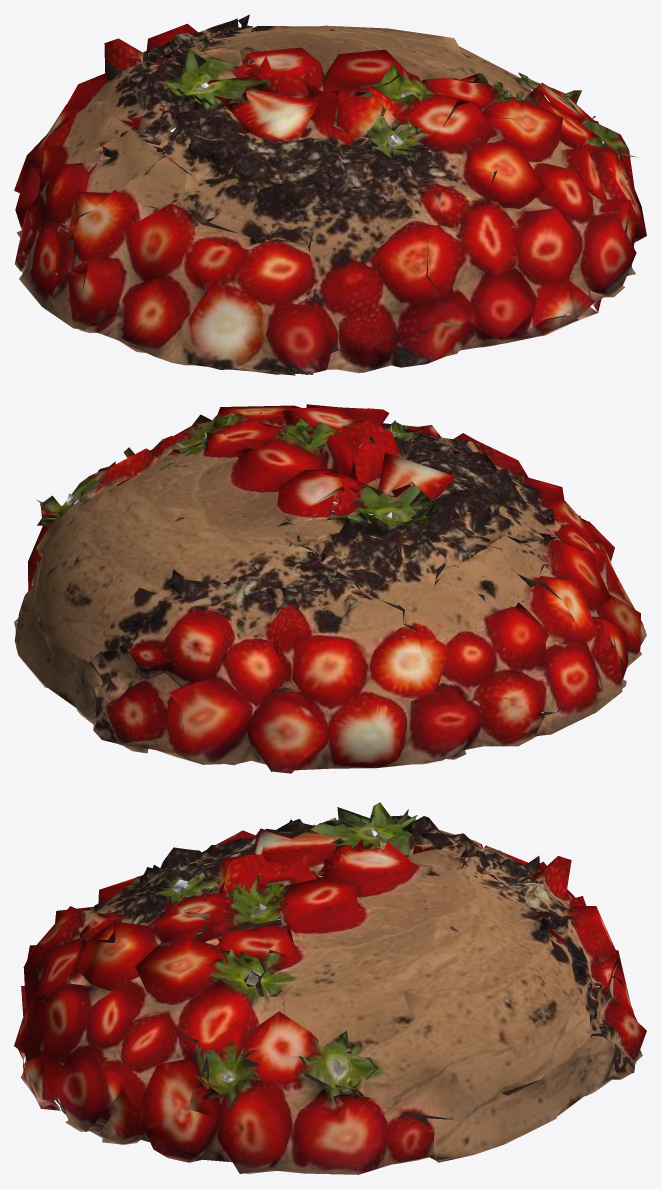
Rendered from ph_strawberry_chocolate_cake.glb.
3 views of the same model, one above another, from view 1: azimuth 30°, elevation 25°; view 2: azimuth 150°, elevation 25°; view 3: azimuth 270°, elevation 25° (orthographic).
Parts seen in each view (by area): view 1: strawberry_chocolate_cake; view 2: strawberry_chocolate_cake; view 3: strawberry_chocolate_cake.
Boxes of the visible parts, left/top/right/bottom form: strawberry_chocolate_cake: left=14, top=14, right=646, bottom=375; strawberry_chocolate_cake: left=14, top=404, right=646, bottom=773; strawberry_chocolate_cake: left=14, top=802, right=646, bottom=1174.
Bounding box in the file's own units: 0.2428 × 0.0799 × 0.2405.
1 material, 1 textured.
